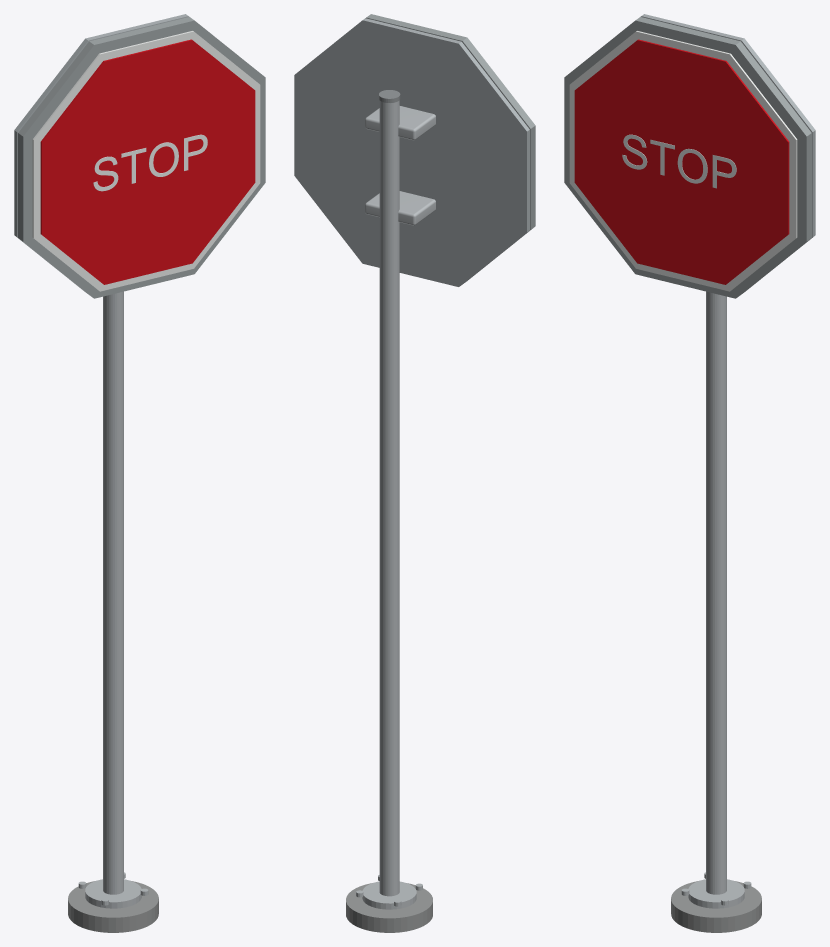
Rendered from pl-b20-stop.glb.
3 views of the same model, side by side, from view 1: azimuth 30°, elevation 25°; view 2: azimuth 150°, elevation 25°; view 3: azimuth 330°, elevation 25° (orthographic). The views are drawn at different scales.
Visible parts, largest first — view 1: B-20 red field inset border, Steel pole OD 60 mm hot-dip galvanized, Extruded metal rolled lip, B-20 thin white border, Concrete base collar, 3D stamped steel reverse sheet, B-20 raised white STOP lettering, Mast foot flange 160mm; view 2: 3D stamped steel reverse sheet, Steel pole OD 60 mm hot-dip galvanized, Concrete base collar, Extruded metal rolled lip, Folded sign-to-mast omega bracket, Folded sign-to-mast omega bracket.001, Mast foot flange 160mm; view 3: B-20 red field inset border, Steel pole OD 60 mm hot-dip galvanized, Extruded metal rolled lip, B-20 thin white border, Concrete base collar, 3D stamped steel reverse sheet, B-20 raised white STOP lettering, Mast foot flange 160mm.
Part boxes in pixels (x1,y1,x2,y2): B-20 red field inset border: (40,39,255,284); Steel pole OD 60 mm hot-dip galvanized: (103,291,123,894); Extruded metal rolled lip: (18,17,265,298); B-20 thin white border: (32,31,260,291); Concrete base collar: (68,881,158,932); 3D stamped steel reverse sheet: (14,14,189,293); B-20 raised white STOP lettering: (93,134,207,191); Mast foot flange 160mm: (85,879,141,908); 3D stamped steel reverse sheet: (294,18,529,286); Steel pole OD 60 mm hot-dip galvanized: (379,100,399,896); Concrete base collar: (346,883,432,932); Extruded metal rolled lip: (365,14,535,283); Folded sign-to-mast omega bracket: (365,191,435,225); Folded sign-to-mast omega bracket.001: (365,106,435,140); Mast foot flange 160mm: (362,881,416,909); B-20 red field inset border: (574,39,789,284); Steel pole OD 60 mm hot-dip galvanized: (706,291,726,894); Extruded metal rolled lip: (564,17,811,298); B-20 thin white border: (569,31,797,291); Concrete base collar: (671,881,761,932); 3D stamped steel reverse sheet: (640,14,815,293); B-20 raised white STOP lettering: (622,134,736,188); Mast foot flange 160mm: (688,879,744,908).
Size of the model in its own units: 0.8 by 2.85 by 0.3426.
